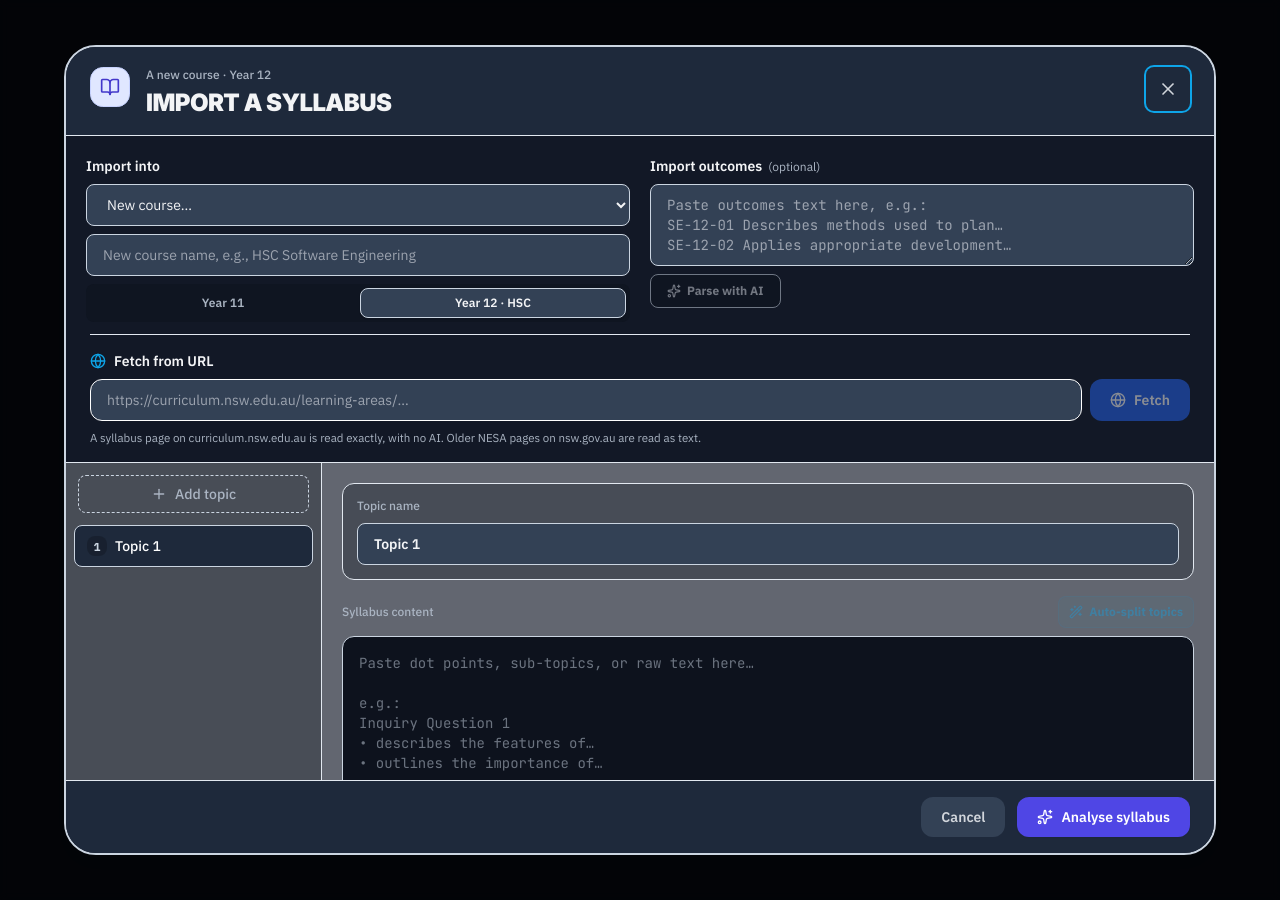
Scenario: SyllabusImportModal input validation › requires a course name before analysing
This screenshot has width=1280, height=900.
Click the button "Analyse syllabus": click(1104, 817) [1017,797,1190,837]
(page scrolled)
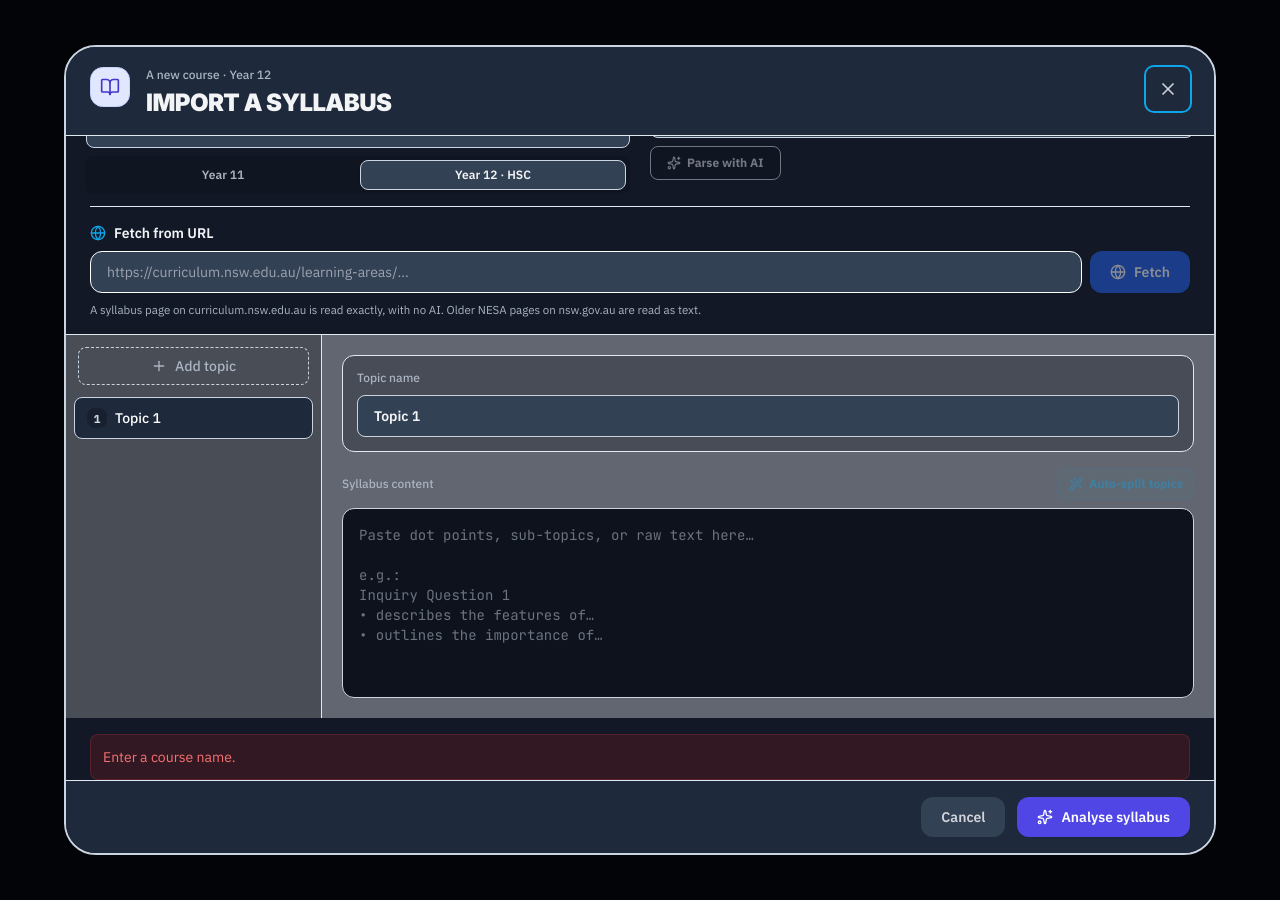
Expected: the text "Enter a course name." is shown, [90,734,1190,780]
